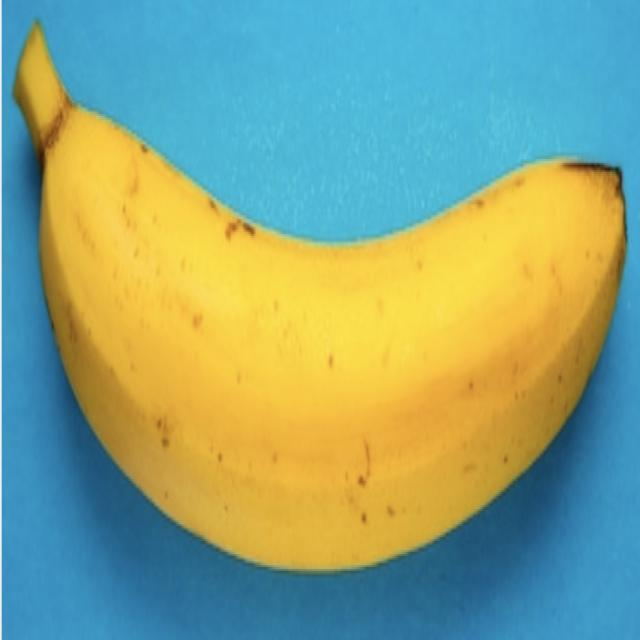Banana: (12, 18, 627, 573)
